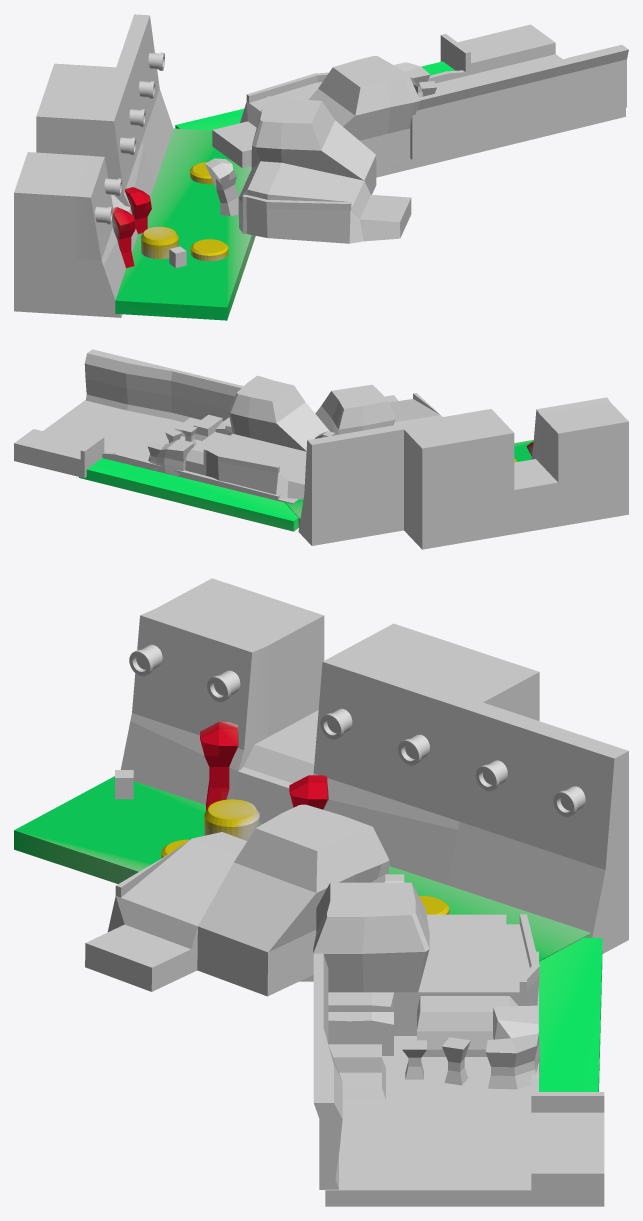
The model's file is SM_Level_test.fbx.
The picture shows the model from 3 angles, top to bottom: view 1: azimuth 30°, elevation 25°; view 2: azimuth 150°, elevation 25°; view 3: azimuth 270°, elevation 25°; orthographic projection. The views are drawn at different scales.
Visible parts, largest first — view 1: Cube.014, Cube.016, Cube.010, Cube.001, Cube.002, Plane, Cube.011, Cube.013, Cube.012, Cylinder.002, Cube.018, Cube.015 (+3 smaller); view 2: Cube.014, Cube.002, Plane, Cube.001, Cube.012, Cube.016, Cube.008, Cube.005, Cube.004, Cube.010; view 3: Cube.014, Cube.016, Plane, Cube.002, Cube.010, Cube.012, Cube.001, Cube.005, Cube.008, Cube.003, Cube.013, Cube.004 (+5 smaller).
Boxes of the visible parts, x1=… form: Cube.014: x1=14, y1=14, x2=173, y2=317; Cube.016: x1=238, y1=96, x2=411, y2=243; Cube.010: x1=115, y1=128, x2=255, y2=320; Cube.001: x1=410, y1=44, x2=628, y2=159; Cube.002: x1=212, y1=56, x2=420, y2=168; Plane: x1=376, y1=24, x2=625, y2=177; Cube.011: x1=205, y1=158, x2=238, y2=216; Cube.013: x1=120, y1=52, x2=164, y2=155; Cube.012: x1=175, y1=61, x2=454, y2=130; Cylinder.002: x1=141, y1=226, x2=178, y2=259; Cube.018: x1=112, y1=207, x2=135, y2=268; Cube.015: x1=125, y1=187, x2=151, y2=234; Cube.014: x1=298, y1=397, x2=628, y2=549; Cube.002: x1=203, y1=375, x2=329, y2=499; Plane: x1=14, y1=400, x2=298, y2=503; Cube.001: x1=84, y1=349, x2=243, y2=422; Cube.012: x1=79, y1=458, x2=298, y2=531; Cube.016: x1=315, y1=384, x2=442, y2=434; Cube.008: x1=147, y1=436, x2=194, y2=475; Cube.005: x1=185, y1=432, x2=229, y2=474; Cube.004: x1=175, y1=414, x2=222, y2=440; Cube.010: x1=284, y1=440, x2=533, y2=526; Cube.014: x1=120, y1=578, x2=628, y2=953; Cube.016: x1=85, y1=804, x2=389, y2=996; Plane: x1=299, y1=951, x2=604, y2=1206; Cube.002: x1=313, y1=882, x2=539, y2=1035; Cube.010: x1=14, y1=776, x2=590, y2=961; Cube.012: x1=539, y1=938, x2=602, y2=1091; Cube.001: x1=313, y1=953, x2=342, y2=1189; Cube.005: x1=417, y1=996, x2=517, y2=1056; Cube.008: x1=485, y1=1005, x2=539, y2=1089; Cube.003: x1=328, y1=992, x2=393, y2=1055; Cube.013: x1=320, y1=708, x2=585, y2=817; Cube.004: x1=328, y1=1044, x2=385, y2=1099.
Size of the model in its own units: 9412 by 1793 by 5254.
